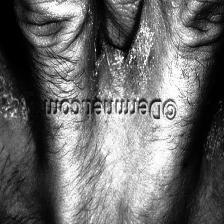Toxin: (88, 0, 152, 101), (0, 27, 40, 125), (202, 36, 224, 156)
